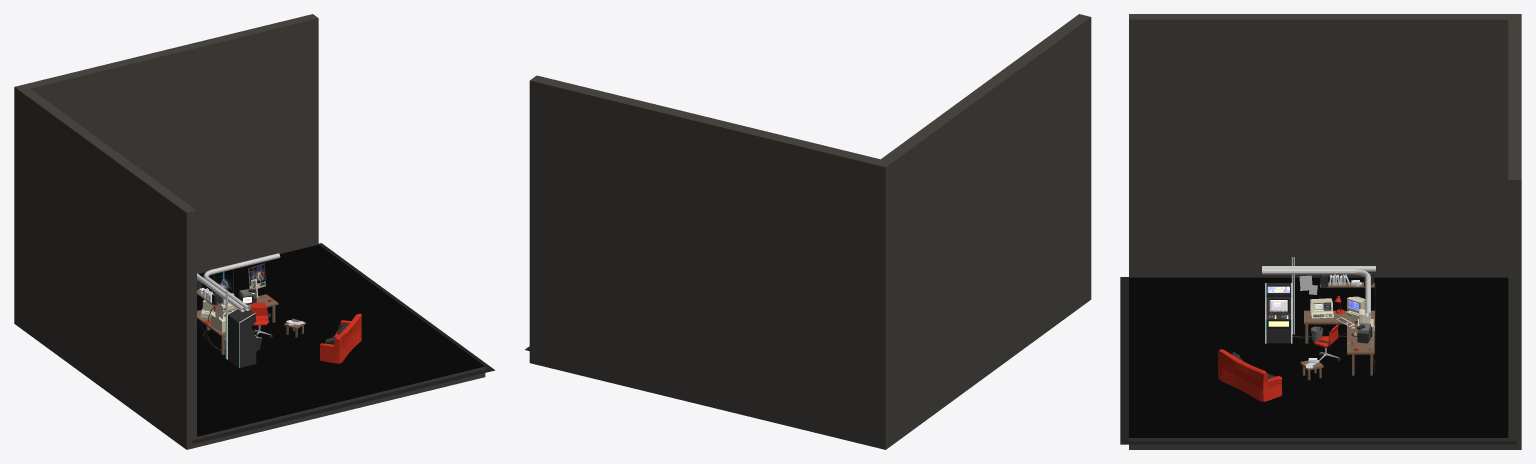
3 views of the same model, side by side, from view 1: azimuth 30°, elevation 25°; view 2: azimuth 150°, elevation 25°; view 3: azimuth 270°, elevation 25° (orthographic). The views are drawn at different scales.
Visible parts, largest first — view 1: Plane, Plane.077, Arcade, Sofa, Pipe.001; view 2: Plane; view 3: Plane, Plane.077, Sofa, Arcade, Pipe.001, Table.002, PC, Table.
Boxes of the visible parts, left/top/right/bottom form: Plane: left=14, top=14, right=485, bottom=449; Plane.077: left=190, top=243, right=495, bottom=443; Arcade: left=227, top=308, right=262, bottom=367; Sofa: left=320, top=313, right=361, bottom=363; Pipe.001: left=203, top=253, right=280, bottom=310; Plane: left=529, top=14, right=1091, bottom=449; Plane: left=1129, top=14, right=1521, bottom=449; Plane.077: left=1120, top=277, right=1516, bottom=444; Sofa: left=1218, top=349, right=1282, bottom=401; Arcade: left=1265, top=283, right=1292, bottom=343; Pipe.001: left=1262, top=269, right=1370, bottom=317; Table.002: left=1347, top=322, right=1374, bottom=354; PC: left=1310, top=298, right=1333, bottom=320; Table: left=1304, top=310, right=1374, bottom=324.
Size of the model in its own units: 28.3 by 21 by 28.3.
Materials: 27 (2 with a texture image).
